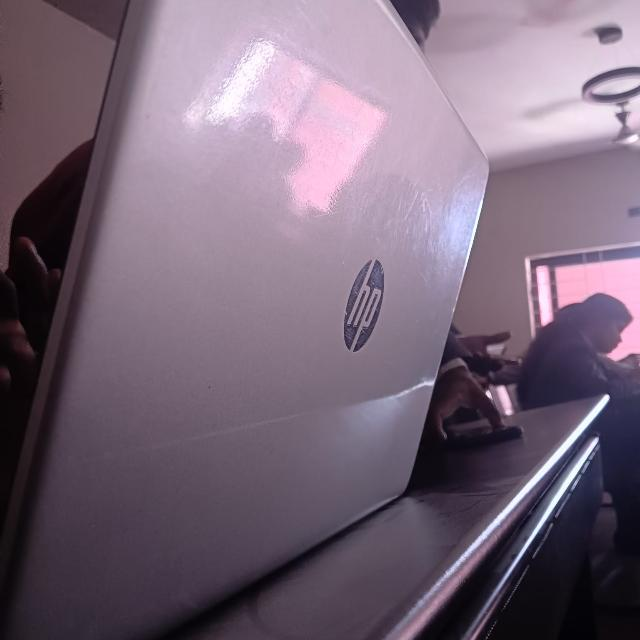laptop: (10, 0, 498, 640)
